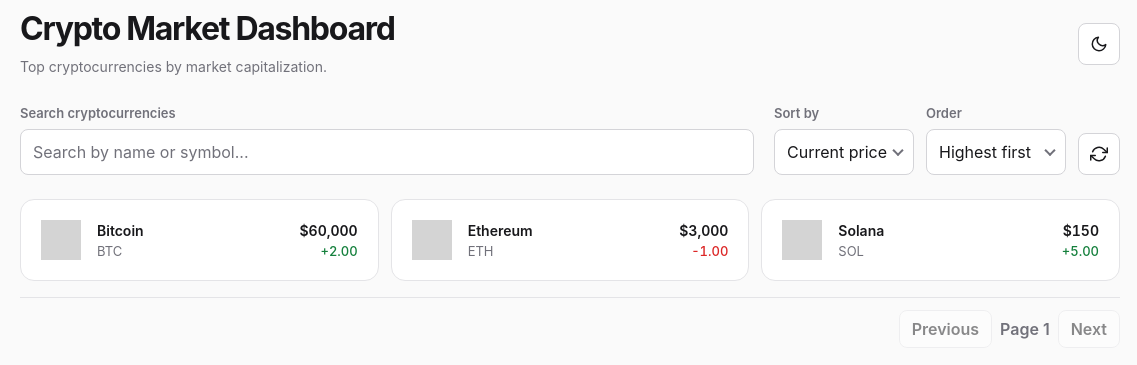
Test case: Crypto dashboard › shows an empty state when no coins match the search
Type "not-a-coin" into the search field labelled "Search cryptocurrencies". click: (387, 152)
box: [20,129,754,175]
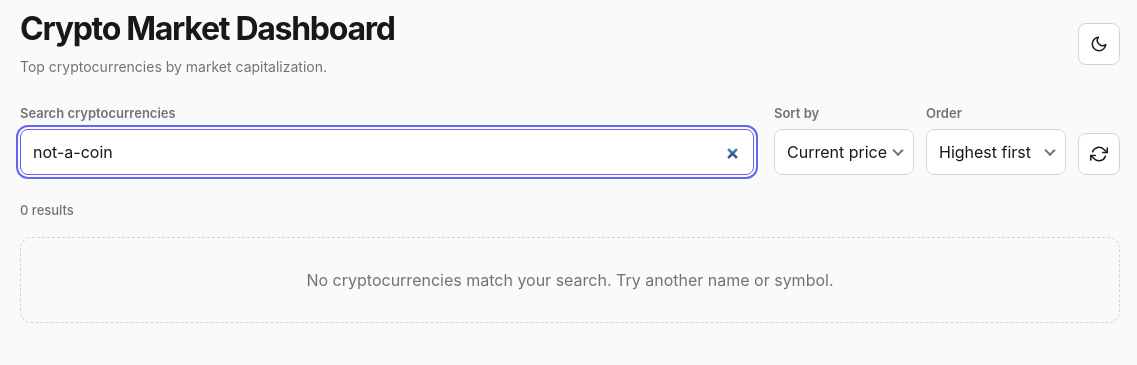
Check: the text "No cryptocurrencies match your search. Try another name or symbol." is shown, box [20,237,1120,323]
